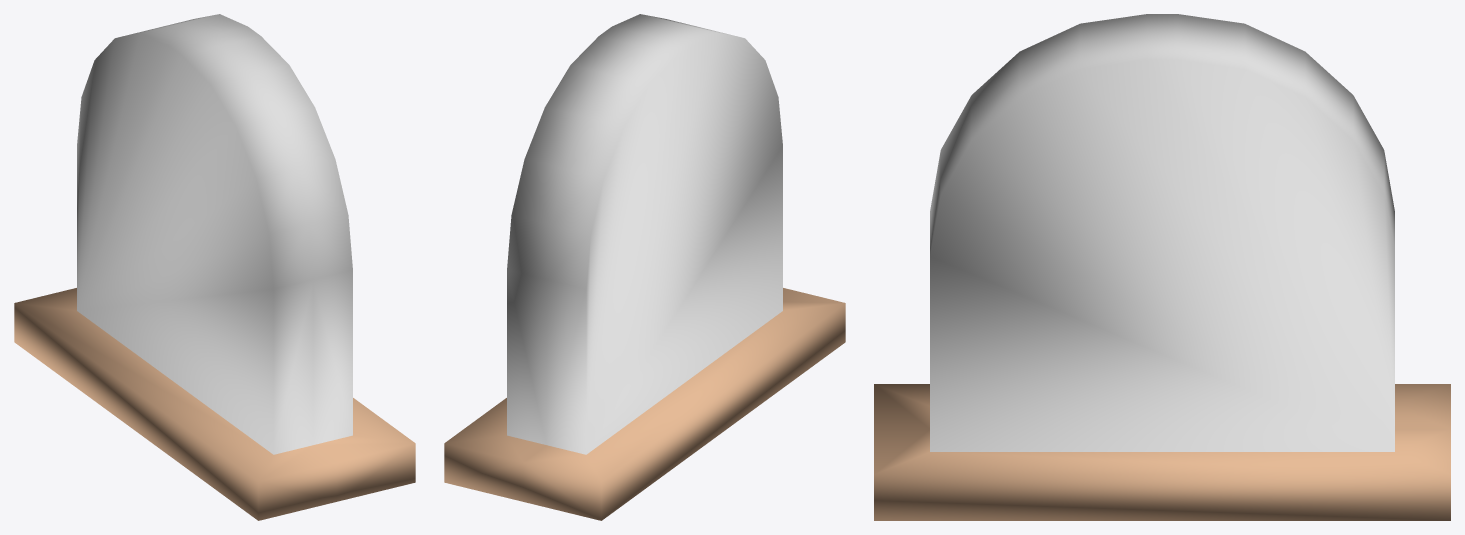
File: TGS4.fbx
3 views of the same model, side by side, from view 1: azimuth 30°, elevation 25°; view 2: azimuth 150°, elevation 25°; view 3: azimuth 270°, elevation 25° (orthographic). The views are drawn at different scales.
Parts seen in each view (by area): view 1: Cube; view 2: Cube; view 3: Cube.
Part boxes in pixels (left/top/right/bottom): Cube: left=14, top=14, right=415, bottom=520; Cube: left=444, top=14, right=845, bottom=520; Cube: left=874, top=14, right=1450, bottom=520.
Size of the model in its own units: 43.29 by 97.69 by 116.
